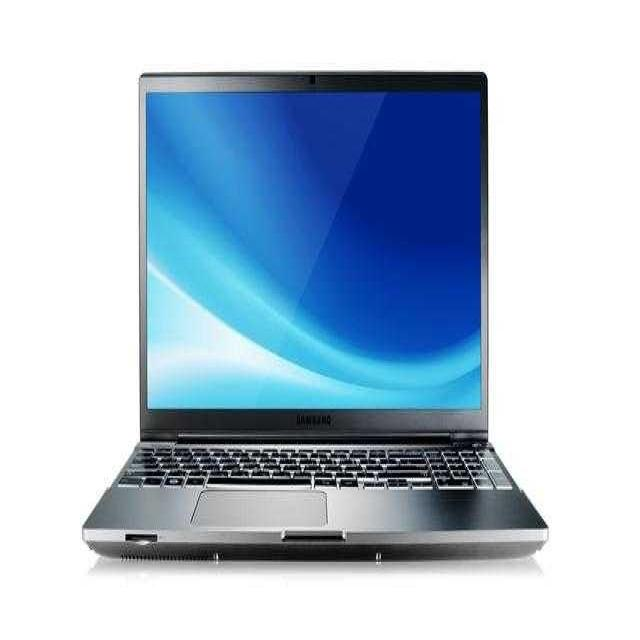laptop: (91, 41, 637, 622)
